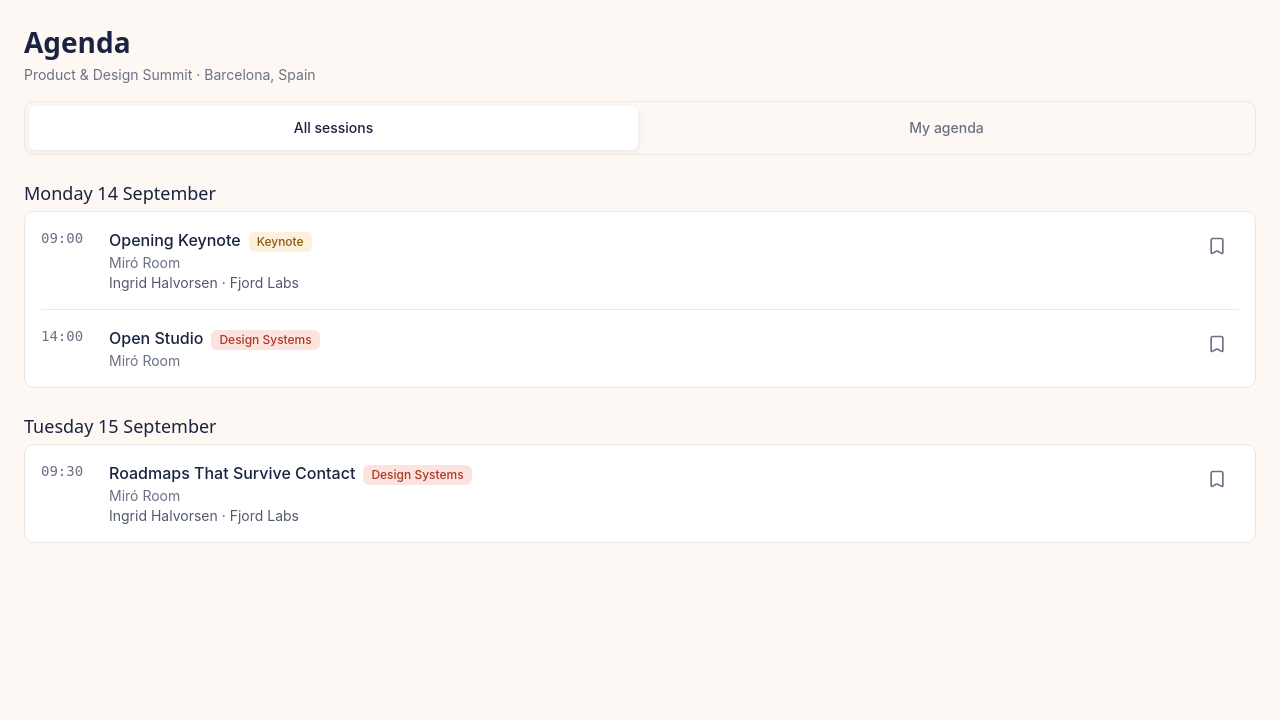
Test: the question composer › disables the post control while the field is empty (FR-704)
What coordinates should you click on to do the following:
click the link "Opening Keynote"
I would click on:
 (175, 240)
Its box is [109,230,241,250].
(page scrolled)
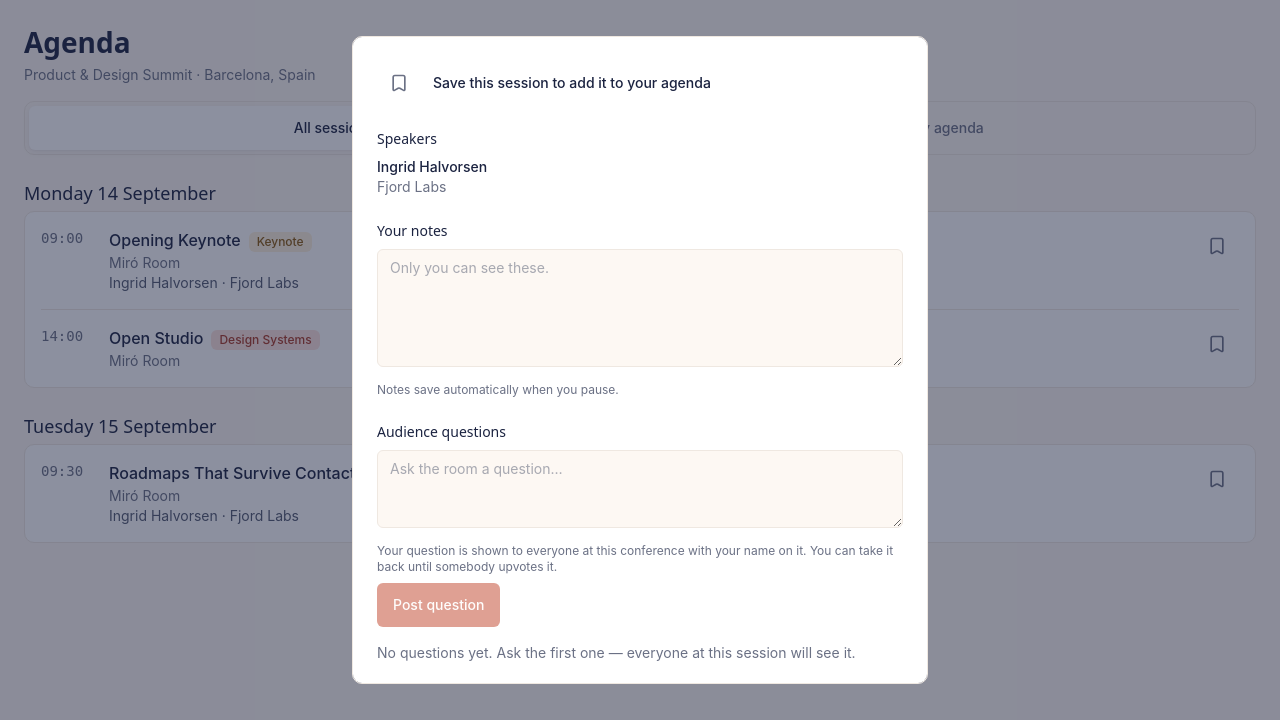
expect the button "Post question" is disabled: met, box [377,583,500,627]
